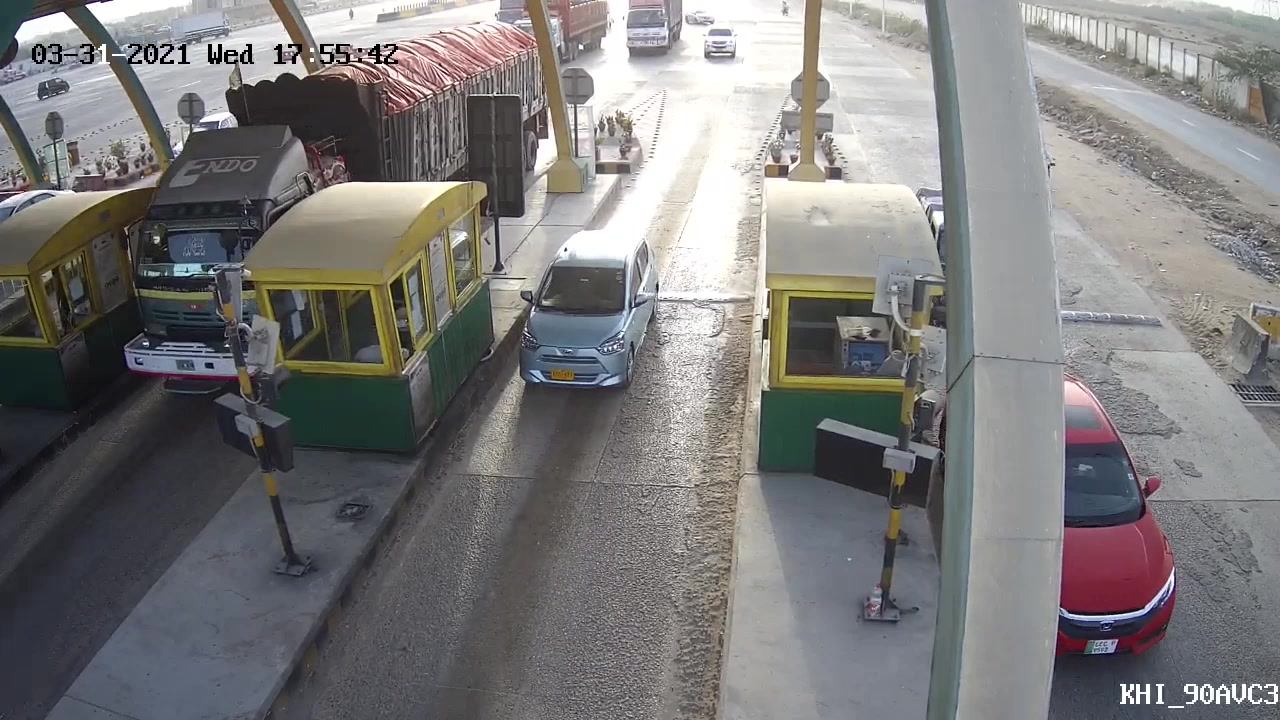F1: (510, 223, 668, 396)
